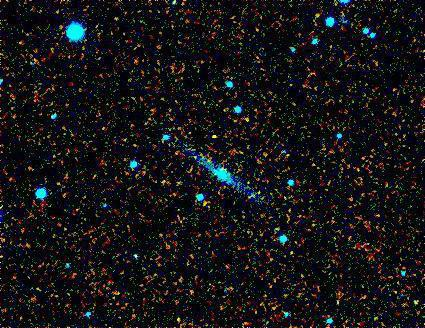star: (200, 120, 230, 150)
